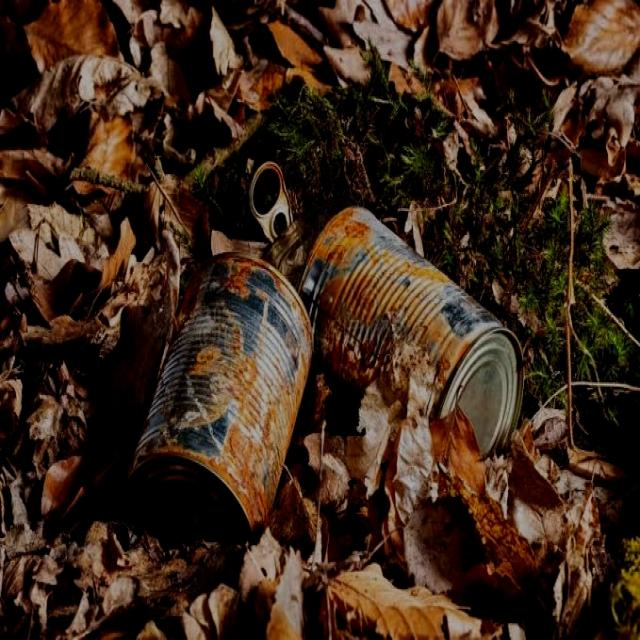metal: (291, 192, 529, 464), (127, 241, 327, 540)
